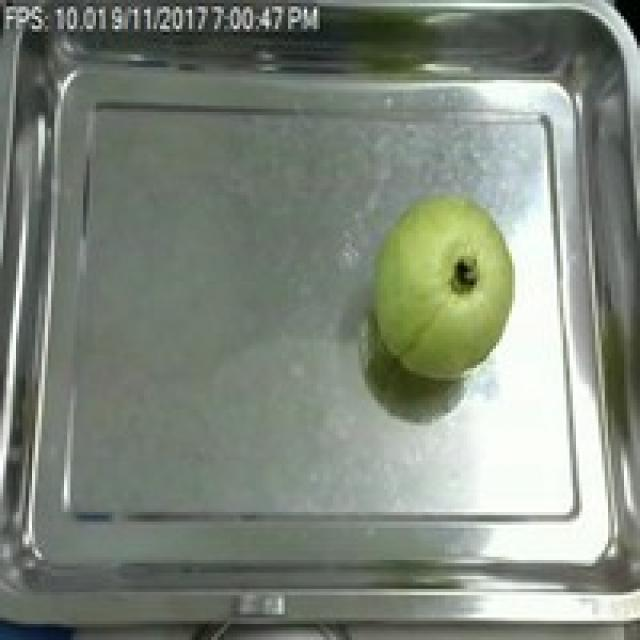Fruit: (362, 186, 524, 387)
